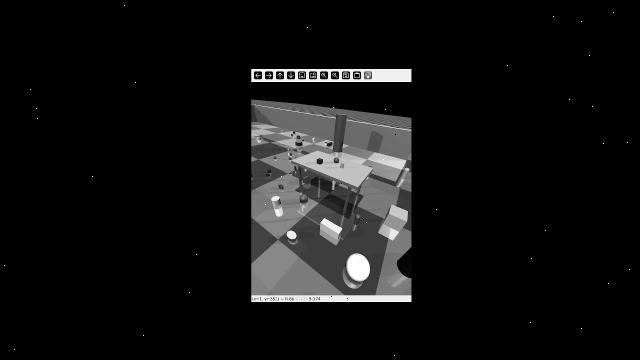cilindro: (331, 113, 351, 153), (397, 241, 412, 279), (271, 194, 282, 209), (402, 165, 410, 182), (353, 215, 361, 227), (332, 179, 336, 191), (340, 161, 346, 169), (326, 142, 334, 147), (256, 137, 260, 142), (259, 133, 263, 137), (287, 147, 289, 153), (294, 165, 296, 171), (290, 153, 293, 156)
cuadrado: (380, 201, 408, 230), (298, 175, 311, 186), (316, 157, 324, 168), (296, 137, 302, 143), (296, 133, 302, 138), (312, 137, 317, 142), (265, 173, 271, 177), (287, 156, 291, 160), (281, 130, 284, 132), (292, 131, 295, 133)
esfera: (340, 251, 373, 283), (286, 227, 303, 239), (297, 192, 311, 203), (331, 156, 340, 163), (278, 183, 284, 190), (300, 138, 306, 141), (274, 154, 277, 160), (324, 140, 328, 143), (290, 134, 292, 135)
rectangulo: (317, 214, 345, 244)
